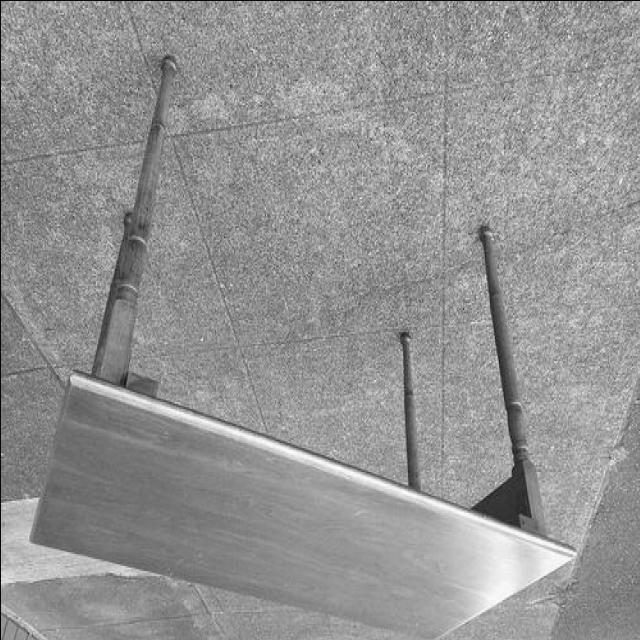table: (29, 56, 574, 640)
